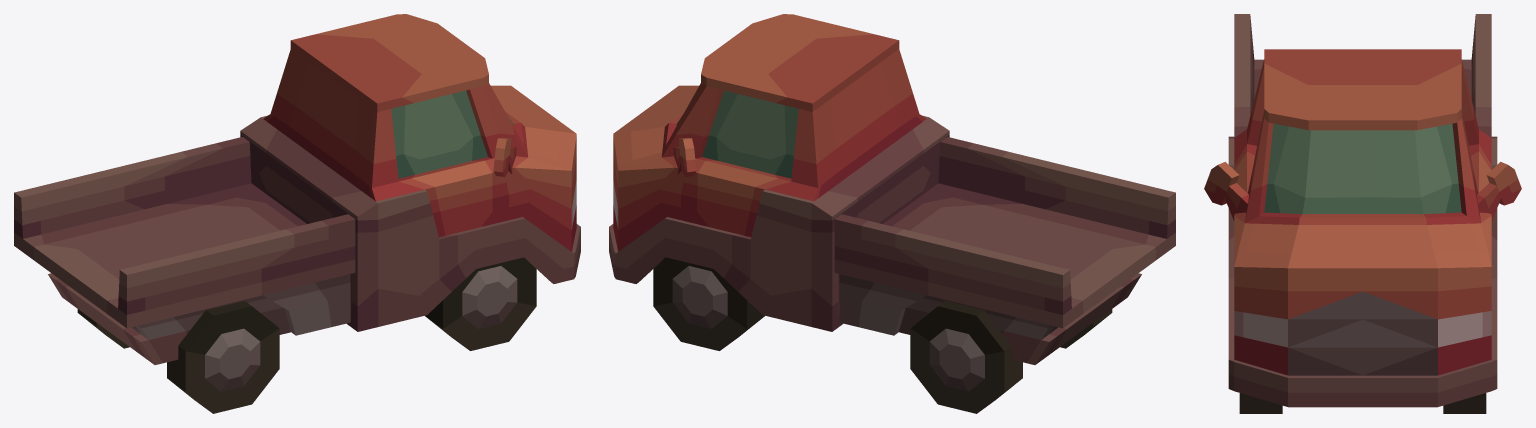
File: truck1.fbx
3 renders of one model, left to right at view 1: azimuth 30°, elevation 25°; view 2: azimuth 150°, elevation 25°; view 3: azimuth 270°, elevation 25°, orthographic. The views are drawn at different scales.
Parts seen in each view (by area): view 1: back, front, back_1, front_1, tire3, tire2, mirror; view 2: front_1, back_1, front, back, tire2_1, tire1, mirror_1; view 3: front_1, back, back_1, front, mirror_1, mirror, tire1, tire2.
Part boxes in pixels (x1,y1,x2,y2): back: [299, 41, 580, 331]; front: [70, 214, 355, 364]; back_1: [14, 137, 298, 330]; front_1: [240, 14, 543, 217]; tire3: [167, 301, 279, 413]; tire2: [425, 257, 536, 350]; mirror: [493, 137, 516, 176]; front_1: [609, 41, 890, 331]; back_1: [834, 214, 1119, 364]; front: [891, 137, 1175, 330]; back: [646, 14, 949, 217]; tire2_1: [910, 301, 1022, 413]; tire1: [653, 257, 764, 350]; mirror_1: [673, 137, 696, 176]; front_1: [1362, 49, 1497, 407]; back: [1228, 49, 1363, 407]; back_1: [1462, 14, 1491, 136]; front: [1234, 14, 1263, 136]; mirror_1: [1477, 161, 1521, 221]; mirror: [1204, 161, 1248, 221]; tire1: [1443, 393, 1486, 413]; tire2: [1239, 393, 1282, 413].
Size of the model in its own units: 280 by 145 by 141.
Materials: 1 (1 with a texture image).
